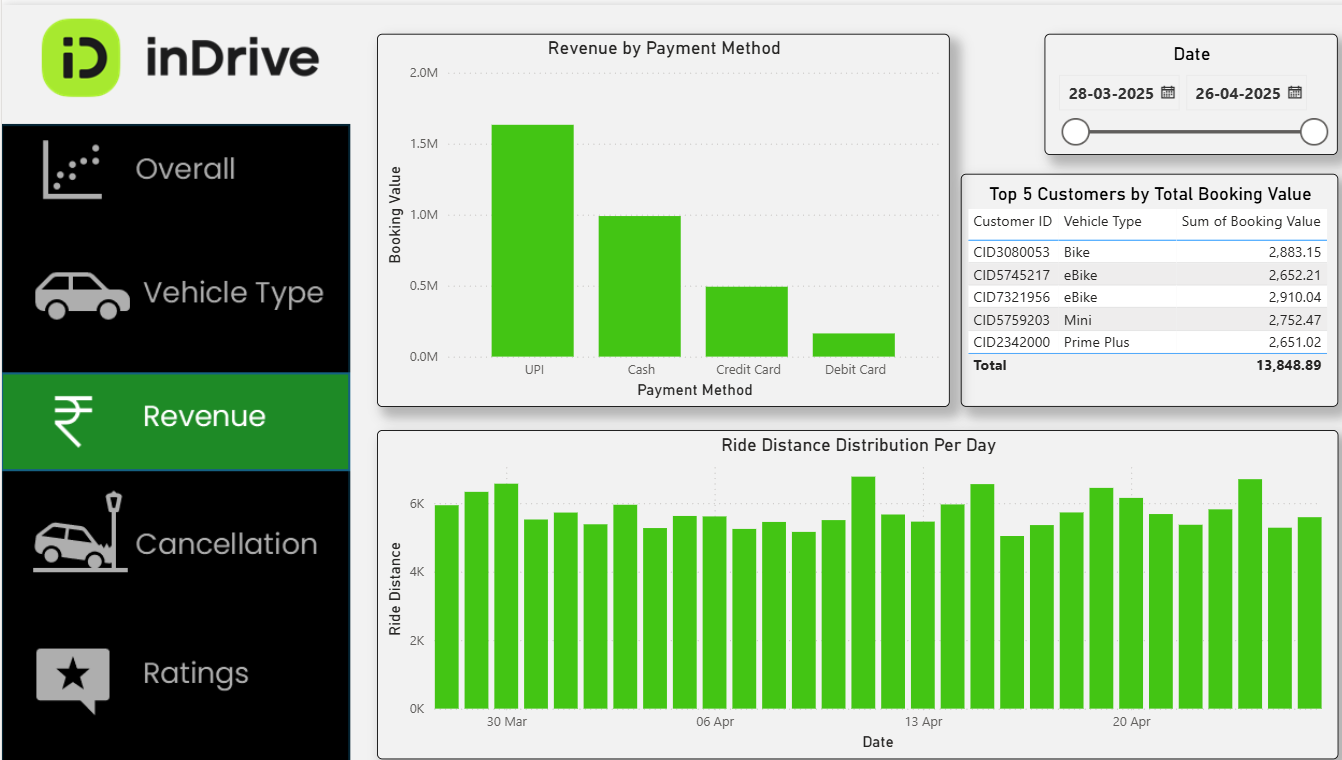

What the dashboard file says about the page in this screenshot:
{"tool":"powerbi","page":{"name":"Revenue","canvas":[1280,720],"ordinal":2},"visuals":[{"type":"actionButton","box":[0,223.5,323.5,92.9],"z":0},{"type":"actionButton","box":[0,342.4,323.5,92.9],"z":1000},{"type":"actionButton","box":[0,455.3,323.5,92.9],"z":2000},{"type":"actionButton","box":[0,577.6,323.5,92.9],"z":3000},{"type":"actionButton","box":[0,110.6,323.5,92.9],"z":4000},{"type":"columnChart","title":" Revenue by Payment Method","fields":{"Y":["Sum(Delhi_CAB_booking_data_final.Booking Value)"],"Category":["Delhi_CAB_booking_data_final.Payment Method"]},"box":[348.6,27.1,532.9,347.1],"z":5000},{"type":"columnChart","title":"Ride Distance Distribution Per Day","fields":{"Y":["Sum(Delhi_CAB_booking_data_final.Ride Distance)"],"Category":["Delhi_CAB_booking_data_final.Date"]},"box":[348.5,395.2,894.7,306],"z":6000},{"type":"slicer","title":"Date","fields":{"Values":["Delhi_CAB_booking_data_final.Date"]},"box":[970,27.1,272.9,112.9],"z":7000},{"type":"tableEx","title":" Top 5 Customers by Total Booking Value","fields":{"Values":["Delhi_CAB_booking_data_final.Customer ID","Delhi_CAB_booking_data_final.Vehicle Type","Sum(Delhi_CAB_booking_data_final.Booking Value)"]},"box":[891.4,157.1,351.4,217.1],"z":8000}]}

Visuals, with their boxes in screenshot pixels (x1, y1, x2, y2), scaled from the page's 1280x720 canvas onto the 1342x760 screenshot:
actionButton: locate(0, 236, 339, 334)
actionButton: locate(0, 361, 339, 459)
actionButton: locate(0, 481, 339, 579)
actionButton: locate(0, 610, 339, 708)
actionButton: locate(0, 117, 339, 215)
" Revenue by Payment Method" columnChart: locate(365, 29, 924, 395)
"Ride Distance Distribution Per Day" columnChart: locate(365, 417, 1303, 740)
"Date" slicer: locate(1017, 29, 1303, 148)
" Top 5 Customers by Total Booking Value" tableEx: locate(935, 166, 1303, 395)
